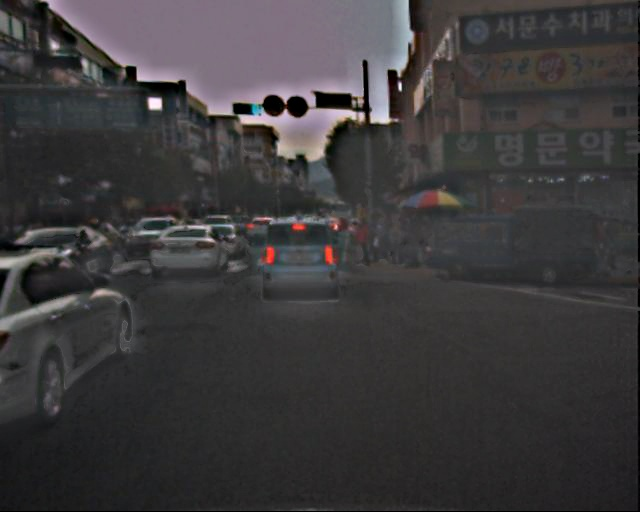person: (353, 215, 431, 267), (597, 211, 623, 275)
